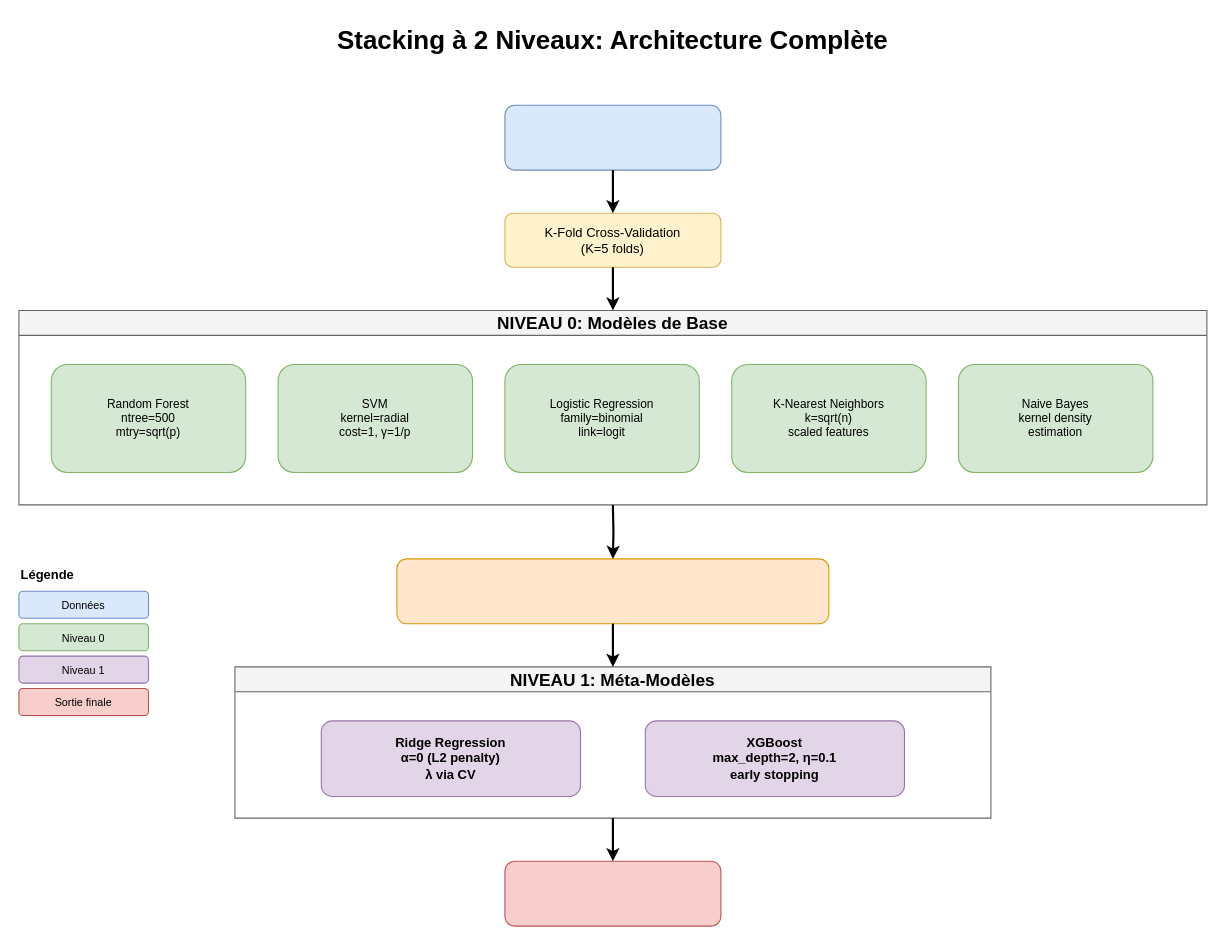
This 1226x945 diagram has some shape labels left out. Each missing label, with the centre of its shape:
"Out-Of-Fold (OOF) Predictions Meta-Features Matrix [n × 5]" belongs at point (612, 591).
"Prédictions Finales Stacking Ensemble" belongs at point (612, 893).
"Training Data X_train, y_train" belongs at point (612, 137).
